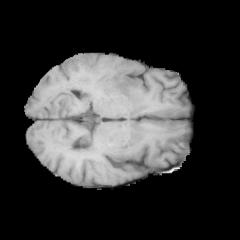glioma: (79, 56, 143, 97)
